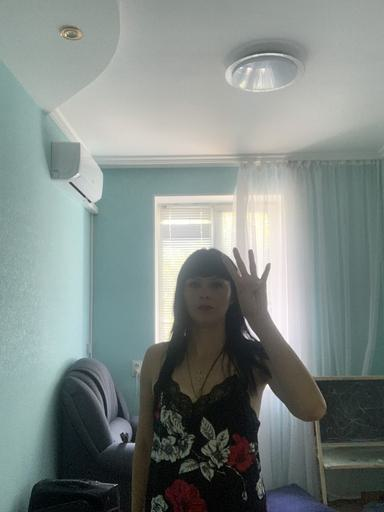four: (220, 246, 273, 321)
